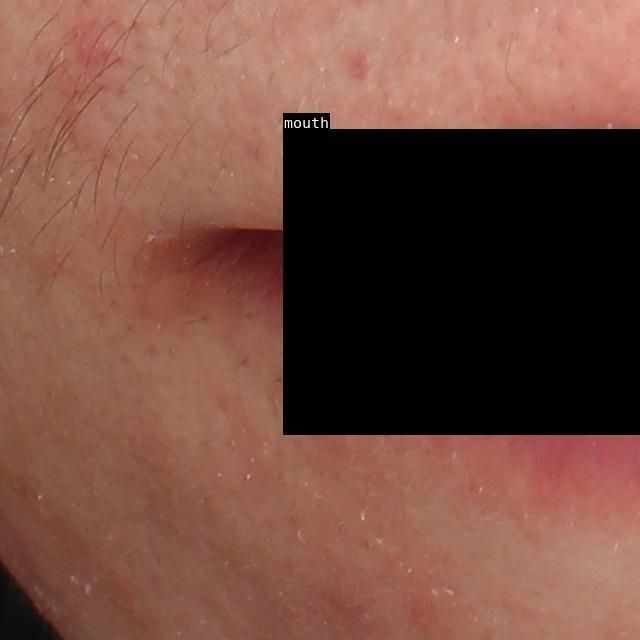atrophic_scar: (344, 52, 372, 83)
